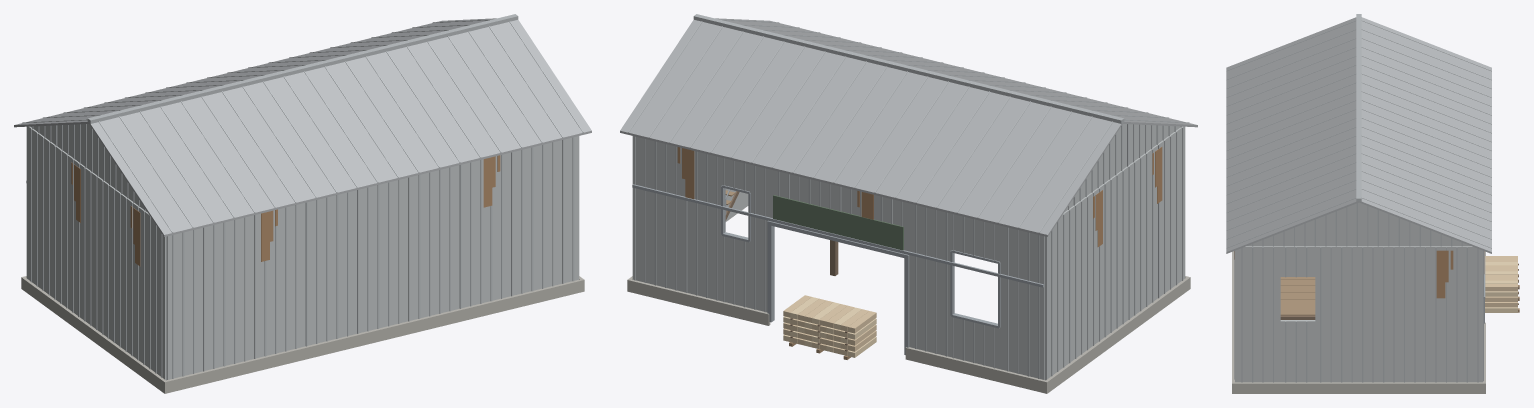
File: mill_shed.glb
The picture shows the model from 3 angles, left to right: view 1: azimuth 30°, elevation 25°; view 2: azimuth 150°, elevation 25°; view 3: azimuth 270°, elevation 25°; orthographic projection. The views are drawn at different scales.
Visible parts, largest first — view 1: hm_shed_mesh; view 2: hm_shed_mesh, hm_lumber5_mesh, hm_loft_mesh; view 3: hm_shed_mesh, hm_lumber5_mesh, hm_loft_mesh.
Boxes of the visible parts, left/top/right/bottom form: hm_shed_mesh: left=14, top=14, right=591, bottom=393; hm_shed_mesh: left=620, top=14, right=1197, bottom=393; hm_lumber5_mesh: left=783, top=295, right=876, bottom=359; hm_loft_mesh: left=725, top=189, right=838, bottom=275; hm_shed_mesh: left=1226, top=14, right=1491, bottom=393; hm_lumber5_mesh: left=1485, top=256, right=1519, bottom=312; hm_loft_mesh: left=1280, top=277, right=1315, bottom=319.
Size of the model in its own units: 25 by 12.45 by 16.81.
